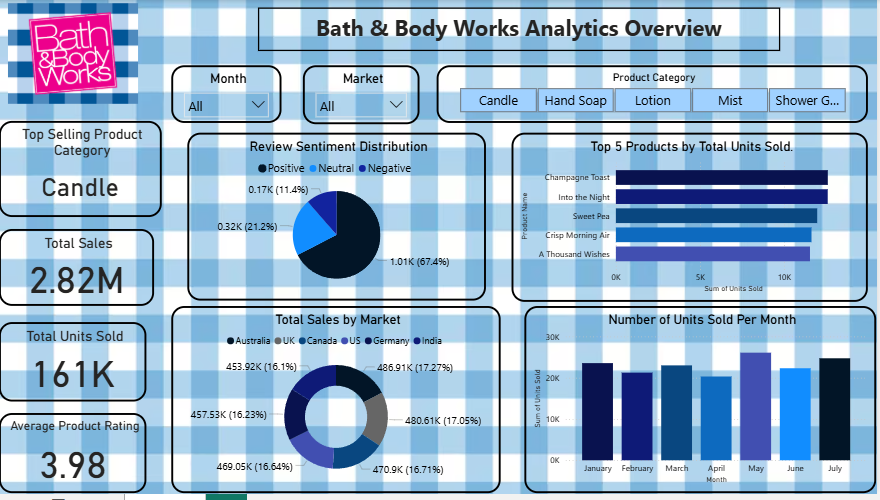

The page's visual inventory and layout, read from the dashboard file:
{"tool":"powerbi","page":{"name":"Page 1","canvas":[1280,720],"ordinal":0},"visuals":[{"type":"card","title":"Total Sales","fields":{"Values":["Sum(Bath_and_Body_Works_Corrected_Dataset.Total Sales)"]},"box":[0,333.9,226.3,112.4],"z":0},{"type":"card","title":"Total Units Sold","fields":{"Values":["Sum(Bath_and_Body_Works_Corrected_Dataset.Units Sold)"]},"box":[0,469.7,215.3,115.5],"z":1000},{"type":"card","title":"Average Product Rating","fields":{"Values":["Avg(Bath_and_Body_Works_Corrected_Dataset.Rating)"]},"box":[0,602.3,215.3,117],"z":2000},{"type":"clusteredColumnChart","title":"Number of Units Sold Per Month","fields":{"Category":["Bath_and_Body_Works_Corrected_Dataset.Date.Variation.Date Hierarchy.Month"],"Y":["Sum(Bath_and_Body_Works_Corrected_Dataset.Units Sold)"]},"box":[766.2,446.3,513.4,273.1],"z":3000},{"type":"pieChart","title":"Review Sentiment Distribution","fields":{"Category":["Bath_and_Body_Works_Corrected_Dataset.Review Sentiment"],"Y":["CountNonNull(Bath_and_Body_Works_Corrected_Dataset.Rating)"]},"box":[274.6,193.5,435.4,245],"z":4000},{"type":"donutChart","title":" Total Sales by Market","fields":{"Category":["Bath_and_Body_Works_Corrected_Dataset.Market"],"Y":["Sum(Bath_and_Body_Works_Corrected_Dataset.Total Sales)"]},"box":[251.2,446.3,480.6,273.1],"z":5000},{"type":"clusteredBarChart","title":"Top 5 Products by Total Units Sold.","fields":{"Category":["Bath_and_Body_Works_Corrected_Dataset.Product Name"],"Y":["Sum(Bath_and_Body_Works_Corrected_Dataset.Units Sold)"]},"box":[747.5,193.5,519.6,246.6],"z":6000},{"type":"image","box":[0,0,215.3,156],"z":7000},{"type":"slicer","title":"Market","fields":{"Values":["Bath_and_Body_Works_Corrected_Dataset.Market"]},"box":[443.2,95.2,170.1,85.8],"z":7001},{"type":"slicer","title":"Product Category","fields":{"Values":["Bath_and_Body_Works_Corrected_Dataset.Category"]},"box":[638.2,95.2,628.9,84.3],"z":7002},{"type":"slicer","title":"Month","fields":{"Values":["Bath_and_Body_Works_Corrected_Dataset.Date.Variation.Date Hierarchy.Month"]},"box":[251.2,95.2,160.7,84.3],"z":7003},{"type":"textbox","box":[377.6,10.9,761.5,64],"z":7004},{"type":"card","title":"Top Selling Product Category","fields":{"Values":["Bath_and_Body_Works_Corrected_Dataset.Top Selling Product"]},"box":[0,176.3,237.2,140.4],"z":7005}]}

Visuals, with their boxes in screenshot pixels (x1, y1, x2, y2), scaled from the page's 1280x720 canvas onto the 880x500 screenshot:
"Total Sales" card: Rect(0, 232, 156, 310)
"Total Units Sold" card: Rect(0, 326, 148, 406)
"Average Product Rating" card: Rect(0, 418, 148, 499)
"Number of Units Sold Per Month" clusteredColumnChart: Rect(527, 310, 879, 499)
"Review Sentiment Distribution" pieChart: Rect(189, 134, 488, 305)
" Total Sales by Market" donutChart: Rect(173, 310, 503, 499)
"Top 5 Products by Total Units Sold." clusteredBarChart: Rect(514, 134, 871, 306)
image: Rect(0, 0, 148, 108)
"Market" slicer: Rect(305, 66, 422, 126)
"Product Category" slicer: Rect(439, 66, 871, 125)
"Month" slicer: Rect(173, 66, 283, 125)
textbox: Rect(260, 8, 783, 52)
"Top Selling Product Category" card: Rect(0, 122, 163, 220)
